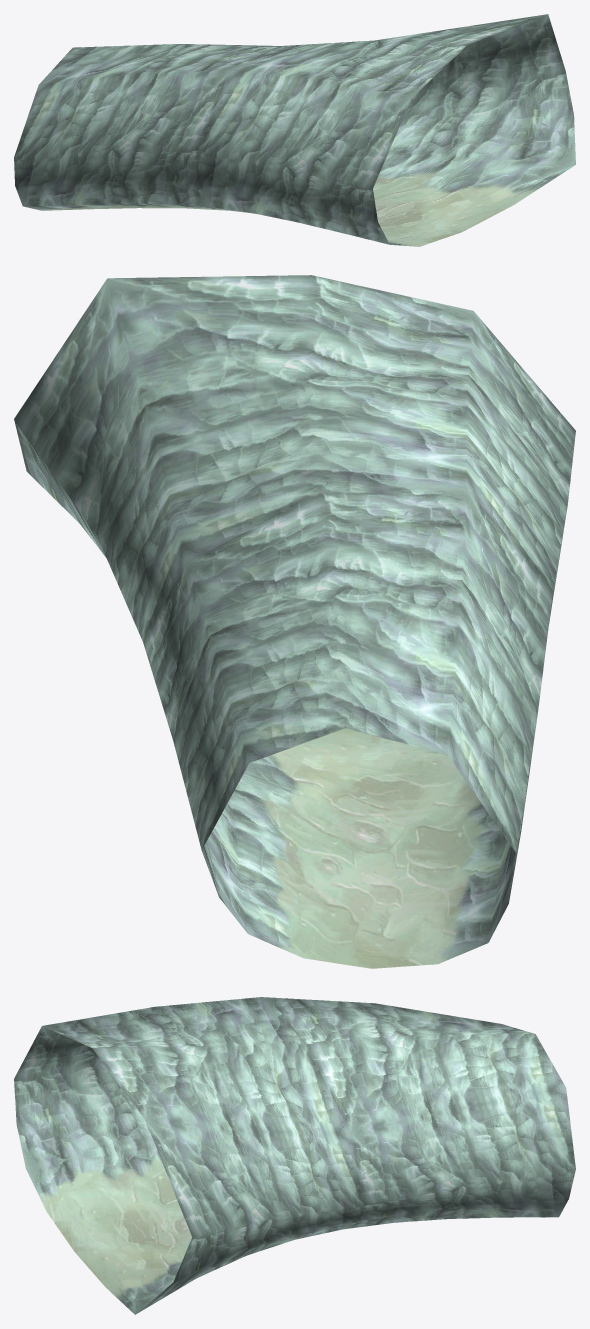
Rendered from TROLLHOLE02_PS-MAINCAVE05.fbx.
3 views of the same model, one above another, from view 1: azimuth 30°, elevation 25°; view 2: azimuth 150°, elevation 25°; view 3: azimuth 270°, elevation 25° (orthographic). The views are drawn at different scales.
Parts seen in each view (by area): view 1: TROLLHOLE02_PS-MAINCAVE05; view 2: TROLLHOLE02_PS-MAINCAVE05; view 3: TROLLHOLE02_PS-MAINCAVE05.
Part boxes in pixels (bbox=[...]): TROLLHOLE02_PS-MAINCAVE05: bbox=[14, 14, 575, 246]; TROLLHOLE02_PS-MAINCAVE05: bbox=[14, 275, 575, 968]; TROLLHOLE02_PS-MAINCAVE05: bbox=[14, 997, 575, 1314].
Bounding box in the file's own units: 114080 × 60251 × 109300.
Materials: 2 (2 with a texture image).
